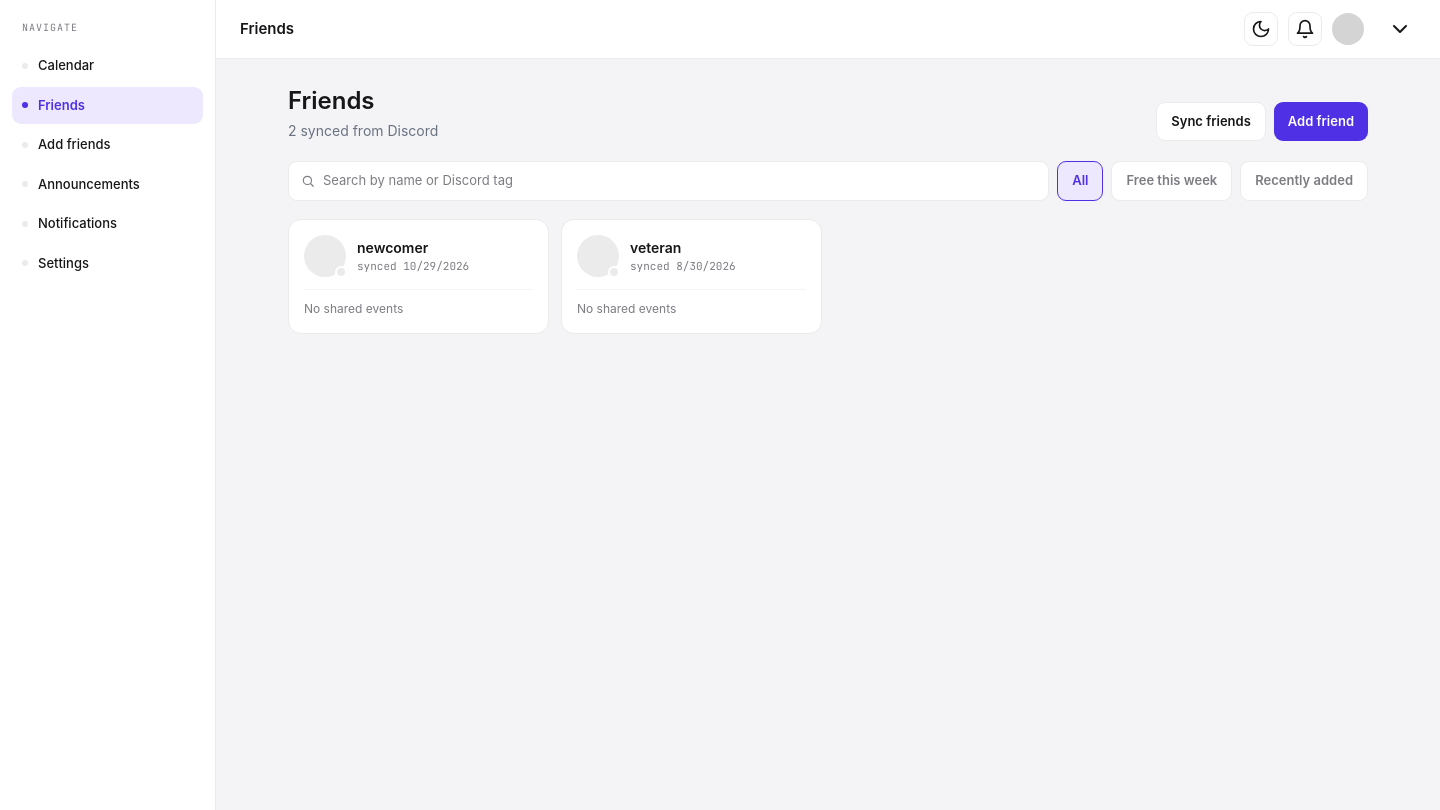
Test: friends directory page › the filter chips › narrows to people synced in the last week
Expected: the text "veteran" is shown, [630, 239, 681, 256]
Click the button "Recently added": (1304, 181) [1240, 161, 1368, 200]
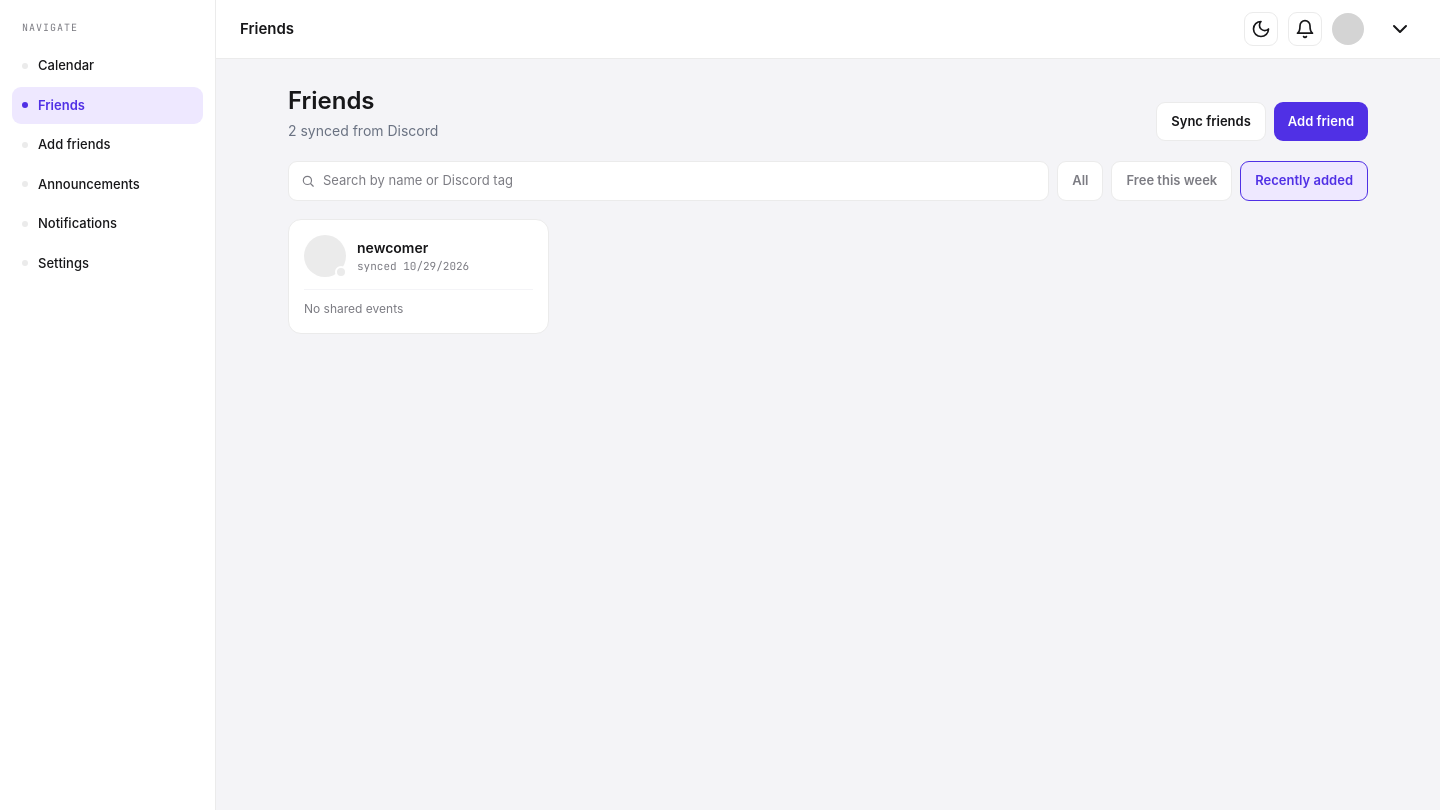
Expected: the text "newcomer" is shown, [357, 239, 428, 256]
Expected: the link "veteran" is gone
